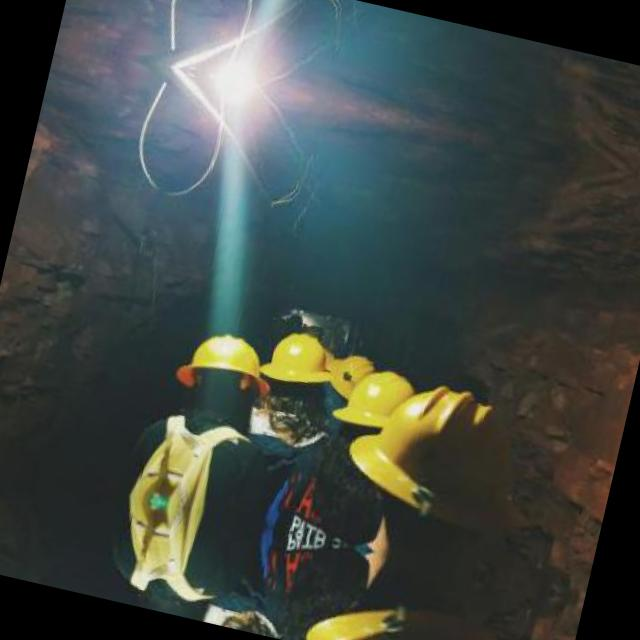helmet: (337, 367, 538, 568), (310, 551, 496, 640), (170, 318, 274, 432), (252, 317, 341, 413)
